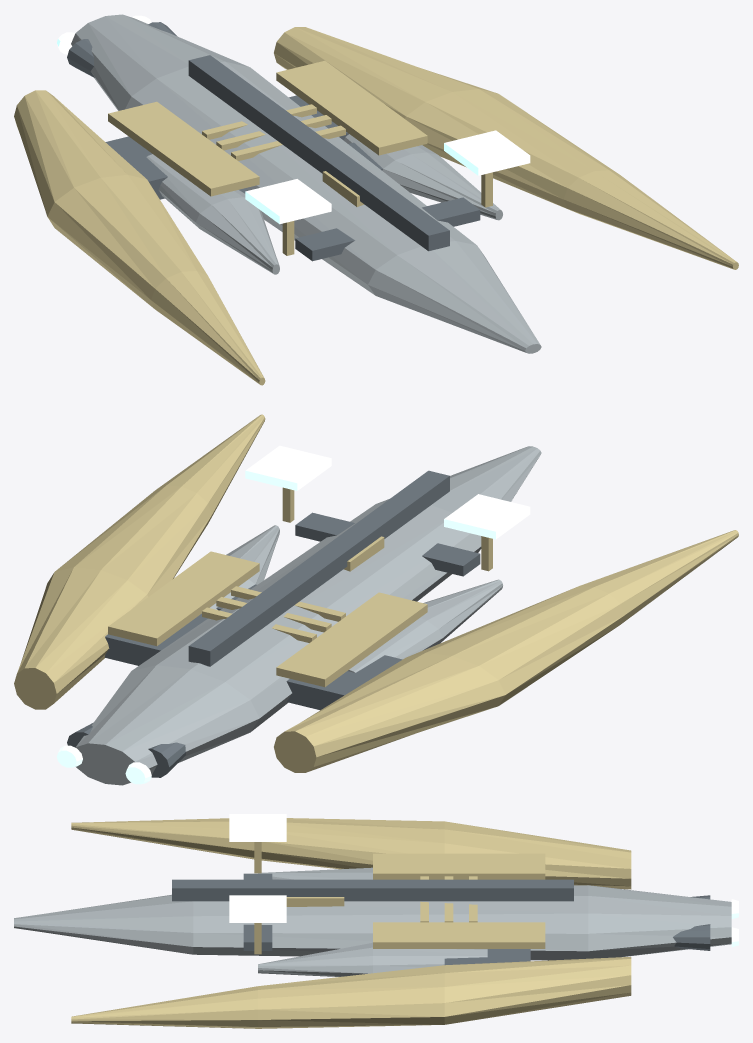
3 views of the same model, one above another, from view 1: azimuth 30°, elevation 25°; view 2: azimuth 150°, elevation 25°; view 3: azimuth 270°, elevation 25° (orthographic). The views are drawn at different scales.
Size of the model in its own units: 6.41 by 1.29 by 10.
